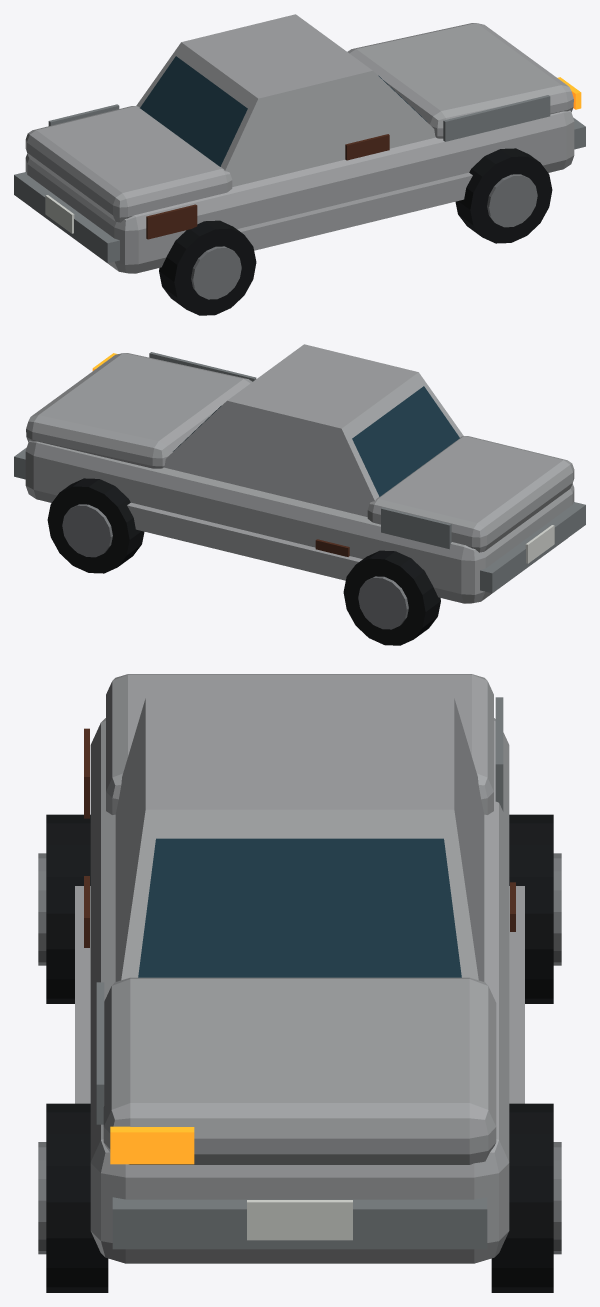
Rendered from Stage2.glb.
The picture shows the model from 3 angles, top to bottom: view 1: azimuth 30°, elevation 25°; view 2: azimuth 150°, elevation 25°; view 3: azimuth 270°, elevation 25°; orthographic projection. The views are drawn at different scales.
Parts seen in each view (by area): view 1: CabinShell.001, LowerBody.001, Trunk.001, Hood.001, RearWindow, RockerPanels.001, Tire_-1.55_-1.002, Tire_1.55_-1.01, Bumpers, ReplacementPanels, Rim_-1.55_-1.002, Rim_1.55_-1.01 (+2 smaller); view 2: CabinShell.001, LowerBody.001, Hood.001, Trunk.001, RearWindow, RockerPanels.001, Tire_-1.55_1.002, Tire_1.55_1.002, Bumpers, ReplacementPanels, Rim_-1.55_1.002, Rim_1.55_1.002 (+1 smaller); view 3: Hood.001, CabinShell.001, Windshield.001, LowerBody.001, Bumpers, Trunk.001, Tire_1.55_-1.01, Tire_1.55_1.002, Tire_-1.55_1.002, Tire_-1.55_-1.002, RockerPanels.001, LicensePlates (+7 smaller).
Part boxes in pixels (x1,y1,x2,y2): CabinShell.001: (136, 14, 435, 186); LowerBody.001: (25, 110, 574, 273); Trunk.001: (25, 106, 232, 222); Hood.001: (347, 23, 573, 138); RearWindow: (140, 56, 247, 166); RockerPanels.001: (237, 172, 472, 250); Tire_-1.55_-1.002: (159, 220, 256, 315); Tire_1.55_-1.01: (455, 148, 552, 243); Bumpers: (14, 117, 585, 263); ReplacementPanels: (48, 95, 550, 141); Rim_-1.55_-1.002: (191, 246, 241, 299); Rim_1.55_-1.01: (487, 174, 537, 227); CabinShell.001: (164, 344, 463, 516); LowerBody.001: (25, 440, 574, 603); Hood.001: (26, 353, 252, 468); Trunk.001: (367, 436, 574, 552); RearWindow: (352, 386, 459, 496); RockerPanels.001: (127, 502, 362, 580); Tire_-1.55_1.002: (343, 550, 440, 645); Tire_1.55_1.002: (47, 478, 144, 573); Bumpers: (14, 447, 585, 593); ReplacementPanels: (149, 352, 451, 549); Rim_-1.55_1.002: (358, 576, 408, 629); Rim_1.55_1.002: (62, 504, 112, 557); Hood.001: (103, 977, 496, 1164); CabinShell.001: (115, 697, 484, 981); Windshield.001: (138, 838, 461, 977); LowerBody.001: (90, 718, 509, 1263); Bumpers: (112, 1197, 487, 1249); Trunk.001: (106, 674, 493, 814); Tire_1.55_-1.01: (46, 1103, 108, 1292); Tire_1.55_1.002: (491, 1103, 553, 1292); Tire_-1.55_1.002: (509, 814, 553, 1003); Tire_-1.55_-1.002: (46, 814, 90, 1003); RockerPanels.001: (75, 886, 524, 1103); LicensePlates: (247, 1200, 352, 1240).
Bounding box in the file's own units: 5.05 × 1.82 × 2.37.
